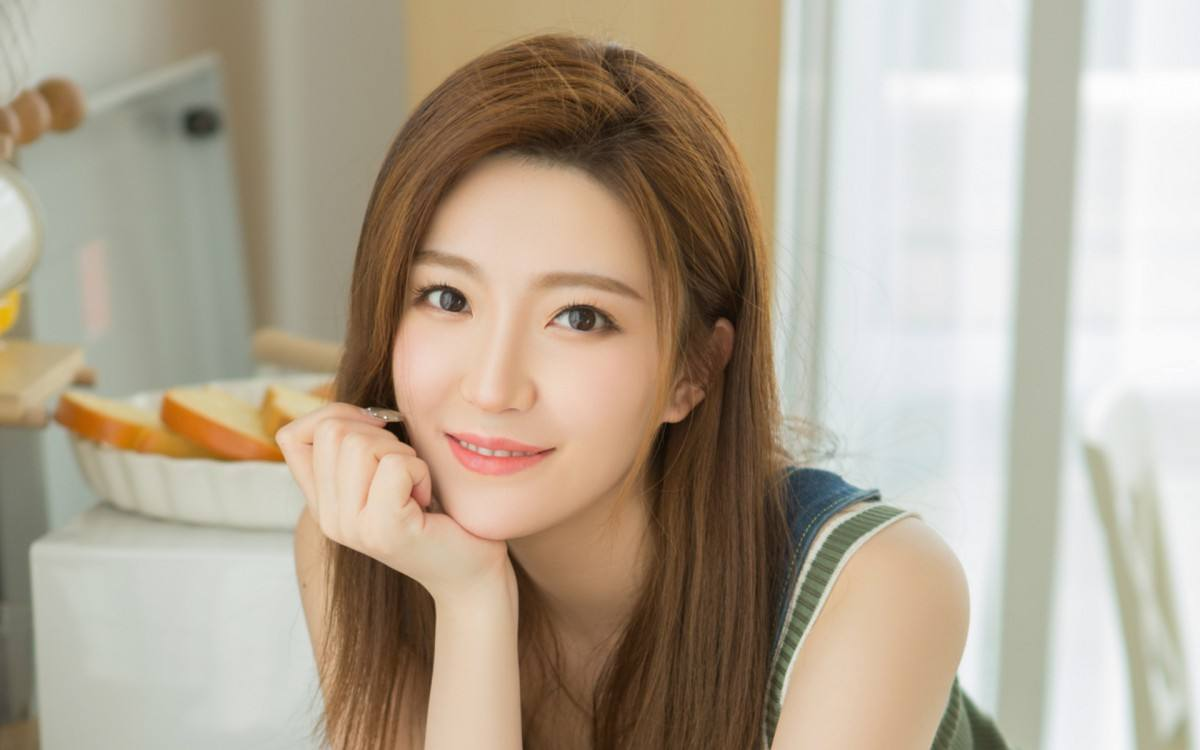person: (273, 42, 864, 750)
